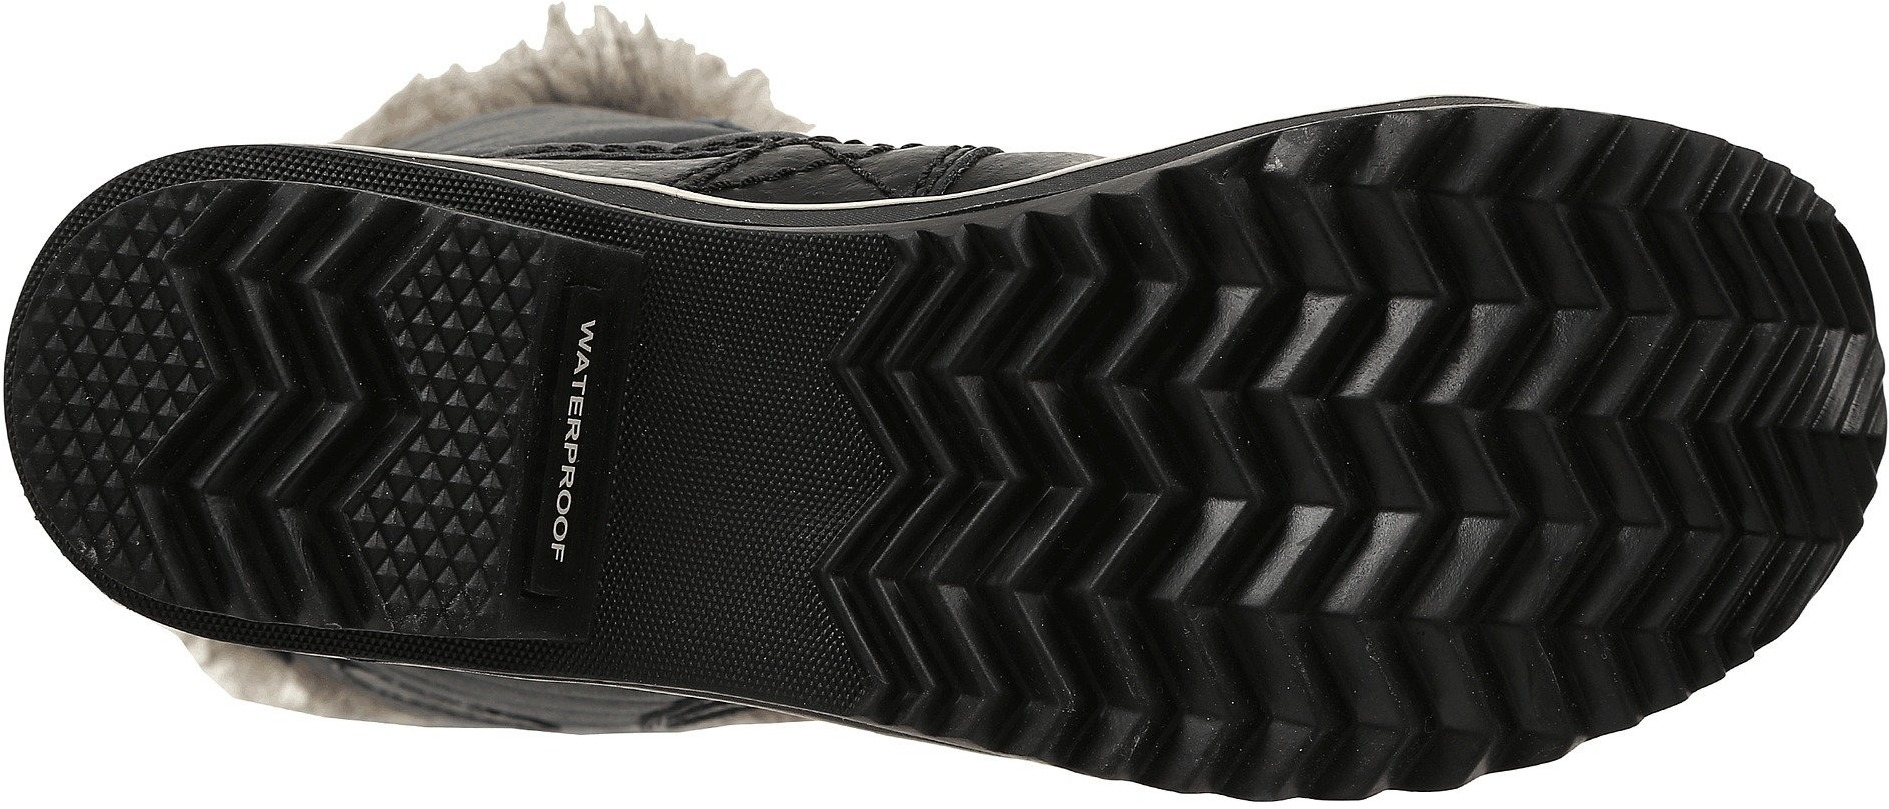chevron: (1173, 163, 1547, 525), (1550, 197, 1848, 531), (890, 235, 1157, 522), (1285, 535, 1520, 770), (1051, 531, 1276, 773), (852, 525, 1043, 740), (183, 201, 383, 404), (155, 420, 351, 618), (1532, 535, 1695, 698)
other: (625, 441, 812, 638), (655, 246, 829, 429)
text: (551, 360, 611, 460)
triangle: (34, 290, 183, 429), (369, 474, 504, 594)
